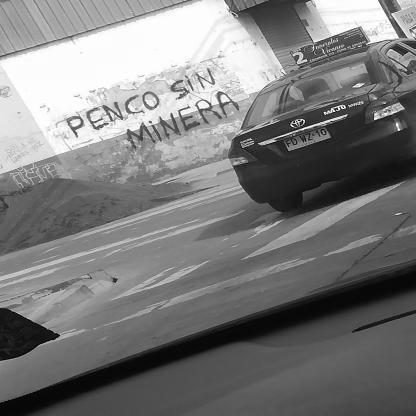Patente: (282, 126, 334, 153)
